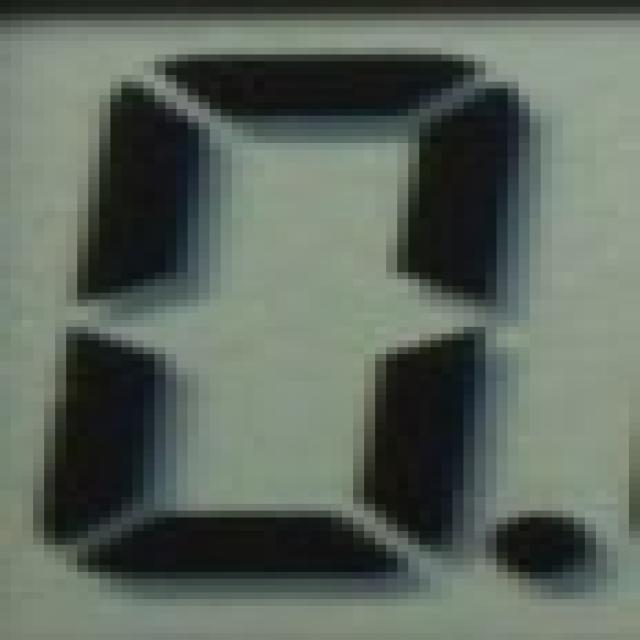.: (482, 499, 622, 588)
0: (22, 45, 519, 610)
